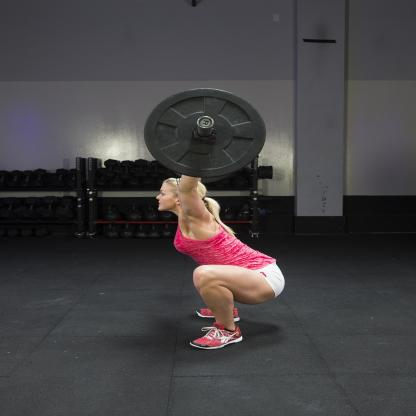Barbell: (140, 84, 270, 181)
